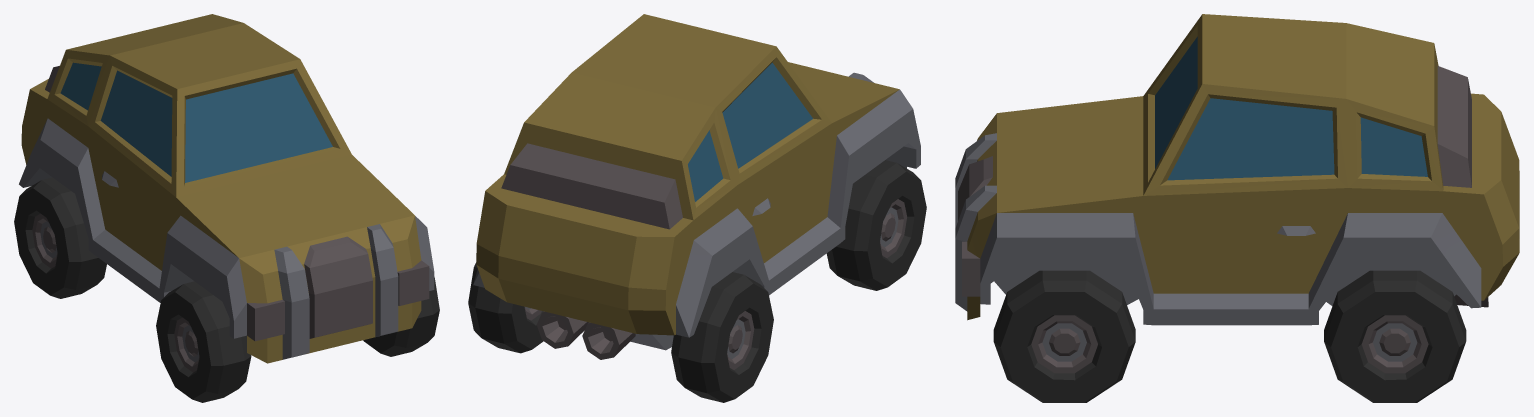
Rendered from LP_VehicleF.fbx.
3 renders of one model, left to right at view 1: azimuth 30°, elevation 25°; view 2: azimuth 150°, elevation 25°; view 3: azimuth 270°, elevation 25°, orthographic. The views are drawn at different scales.
Visible parts, largest first — view 1: VehicleF; view 2: VehicleF; view 3: VehicleF.
Part boxes in pixels (box(x1,y1,x2,y2)): VehicleF: box(14, 14, 439, 402); VehicleF: box(468, 14, 926, 402); VehicleF: box(955, 14, 1519, 402).
Size of the model in its own units: 237 by 251 by 436.
